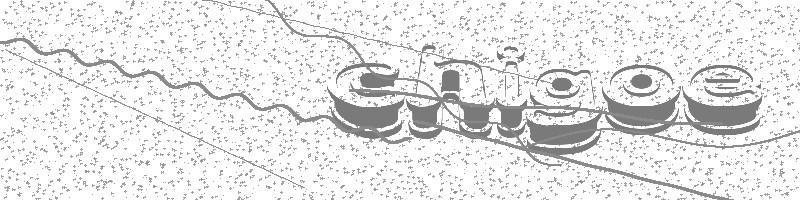c: (326, 61, 405, 140)
e: (682, 63, 764, 137)
g: (527, 65, 603, 156)
h: (405, 43, 495, 140)
i: (495, 44, 528, 138)
o: (602, 64, 681, 137)
